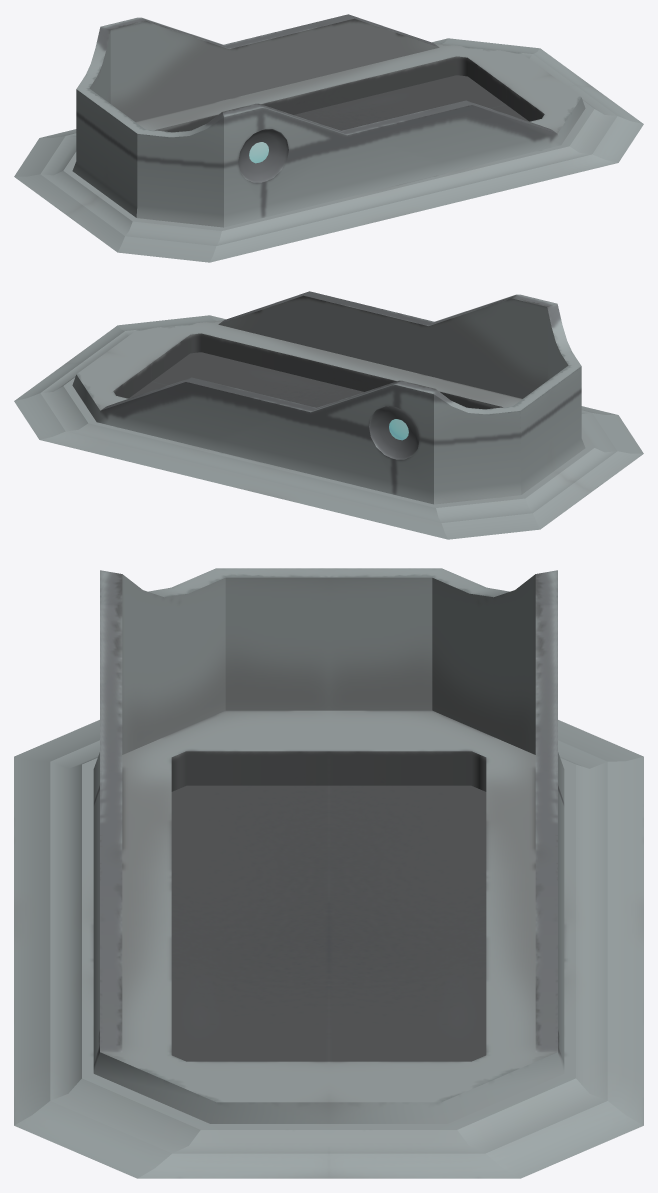
The model's file is SM_Switch.fbx.
The picture shows the model from 3 angles, top to bottom: view 1: azimuth 30°, elevation 25°; view 2: azimuth 150°, elevation 25°; view 3: azimuth 270°, elevation 25°; orthographic projection. The views are drawn at different scales.
Parts seen in each view (by area): view 1: Switch_Bottom; view 2: Switch_Bottom; view 3: Switch_Bottom.
Part boxes in pixels (x1=…): Switch_Bottom: x1=14, y1=14, x2=643, y2=262; Switch_Bottom: x1=14, y1=291, x2=643, y2=539; Switch_Bottom: x1=14, y1=568, x2=643, y2=1178.
Size of the model in its own units: 1.51 by 0.3269 by 0.8468.
